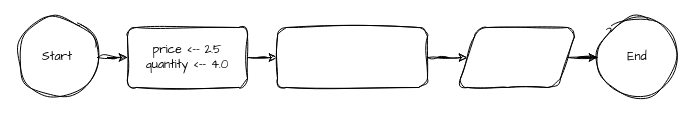
The diagram is 695 pixels wide and 115 high, and some of its shapes have lost their labels. The centre of each missing label's shape, as x and y in pixels:
Output "Total: ", total: pixel 517 57
total <-- price * quantity: pixel 352 57
